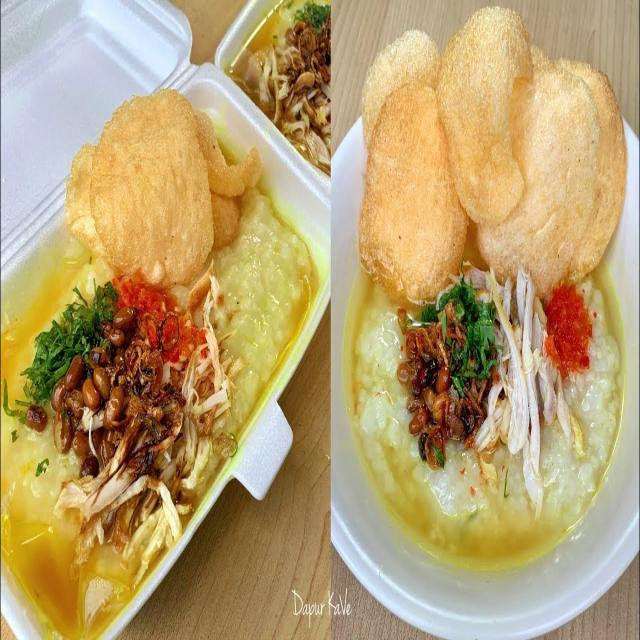bubur ayam: (1, 117, 317, 640), (344, 10, 626, 578)
mangkuk: (331, 0, 638, 632)
sambal: (111, 272, 210, 367)
